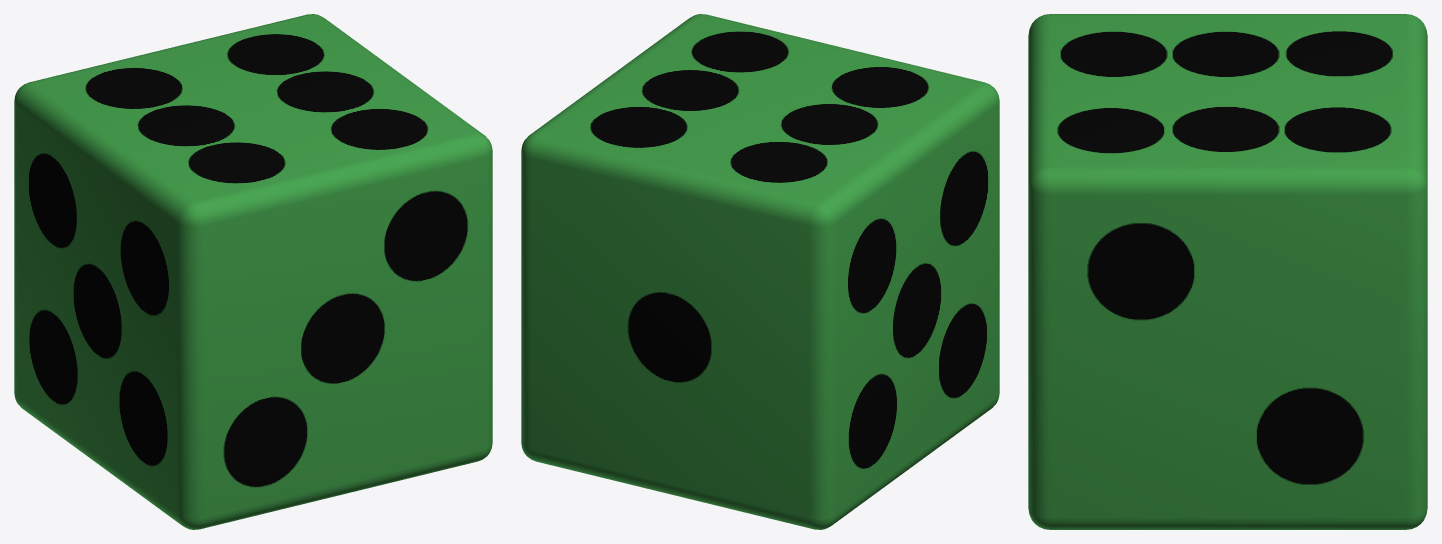
File: simple_die.gltf
The picture shows the model from 3 angles, left to right: view 1: azimuth 30°, elevation 25°; view 2: azimuth 150°, elevation 25°; view 3: azimuth 270°, elevation 25°; orthographic projection. The views are drawn at different scales.
Parts seen in each view (by area): view 1: Cube; view 2: Cube; view 3: Cube.
Boxes of the visible parts, <box> form: Cube: <box>14,14,492,529</box>; Cube: <box>521,14,999,529</box>; Cube: <box>1028,14,1427,529</box>.
Bounding box in the file's own units: 20 × 20 × 20.
Materials: 1 (1 with a texture image).
